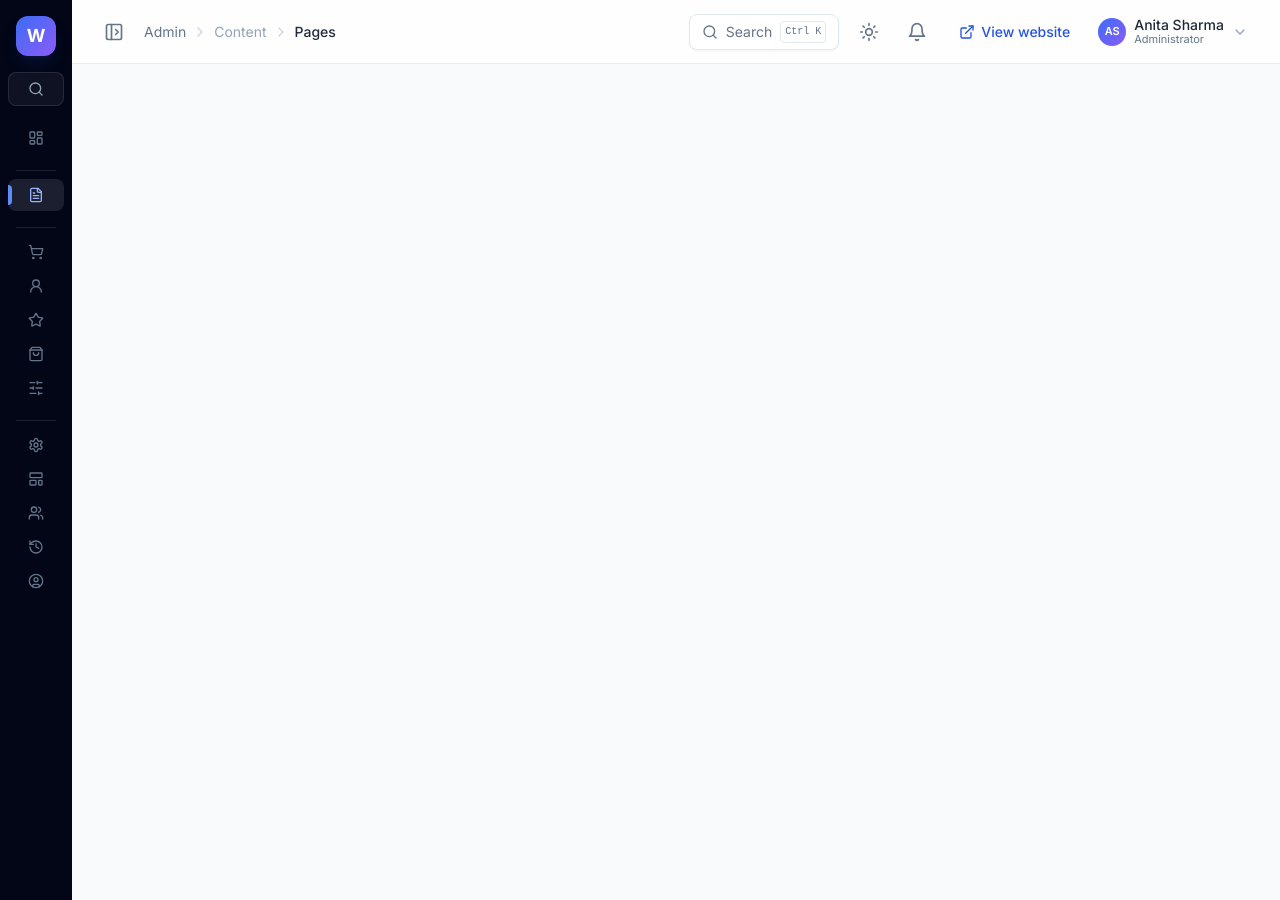
Test: Layout › chhote sidebar me logo click = sidebar khul jaata hai (dashboard nahi khulta)
The image size is (1280, 900).
Click the link named "Show sidebar".
click(36, 36)  # box [0, 0, 72, 72]
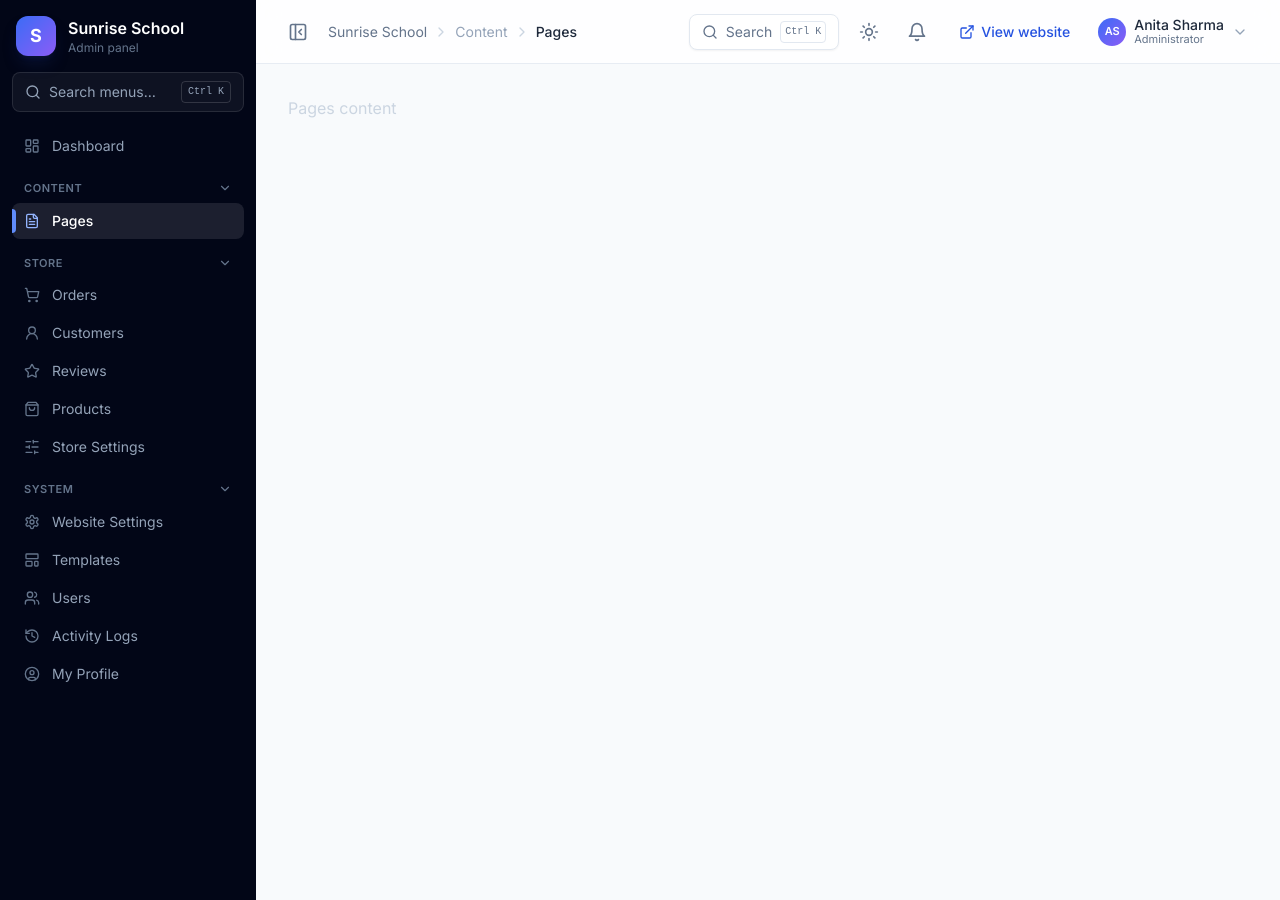
Result: the button "Store" is shown at [12, 254, 244, 277]
Result: the text "Pages content" is shown at [288, 98, 397, 118]
